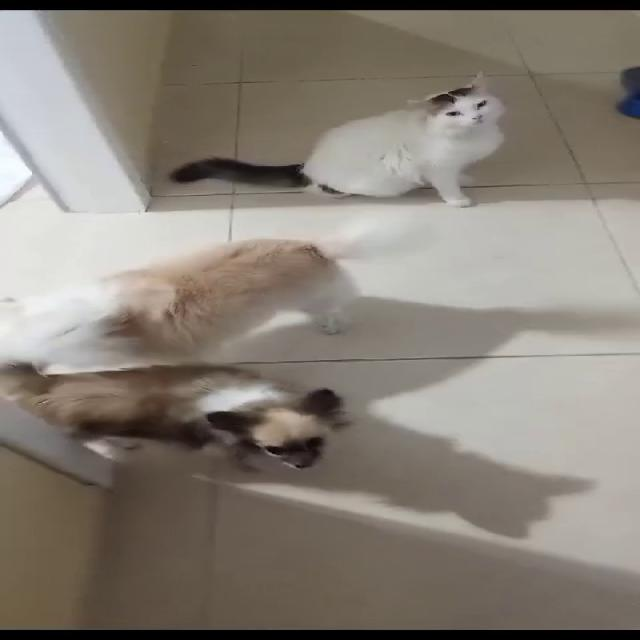Pedrita: (6, 319, 388, 493)
Simba: (243, 49, 566, 230)
Theo: (29, 195, 394, 370)
